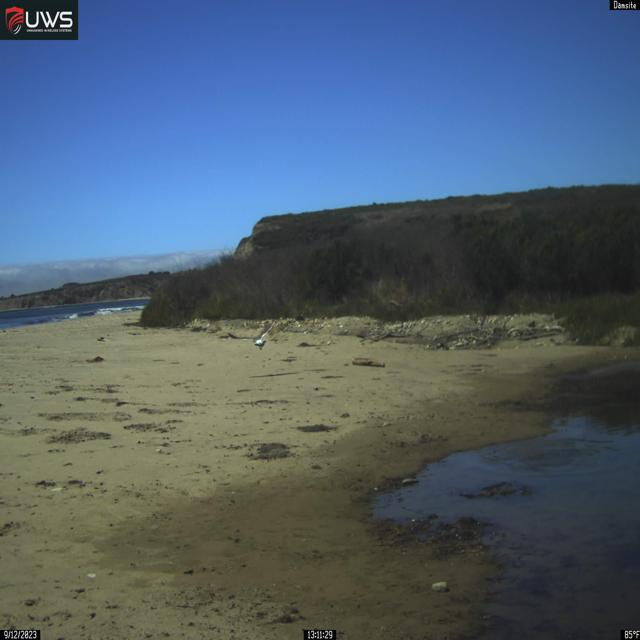bird: (228, 318, 276, 349)
